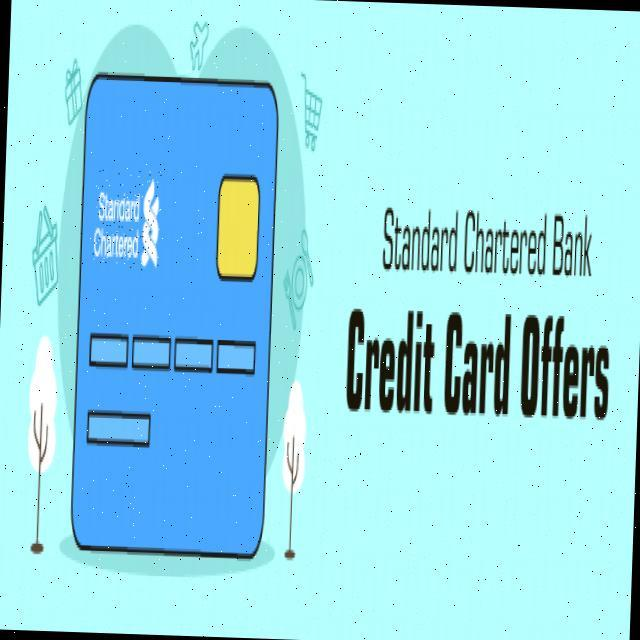Standard Chartered: (92, 169, 162, 270)
